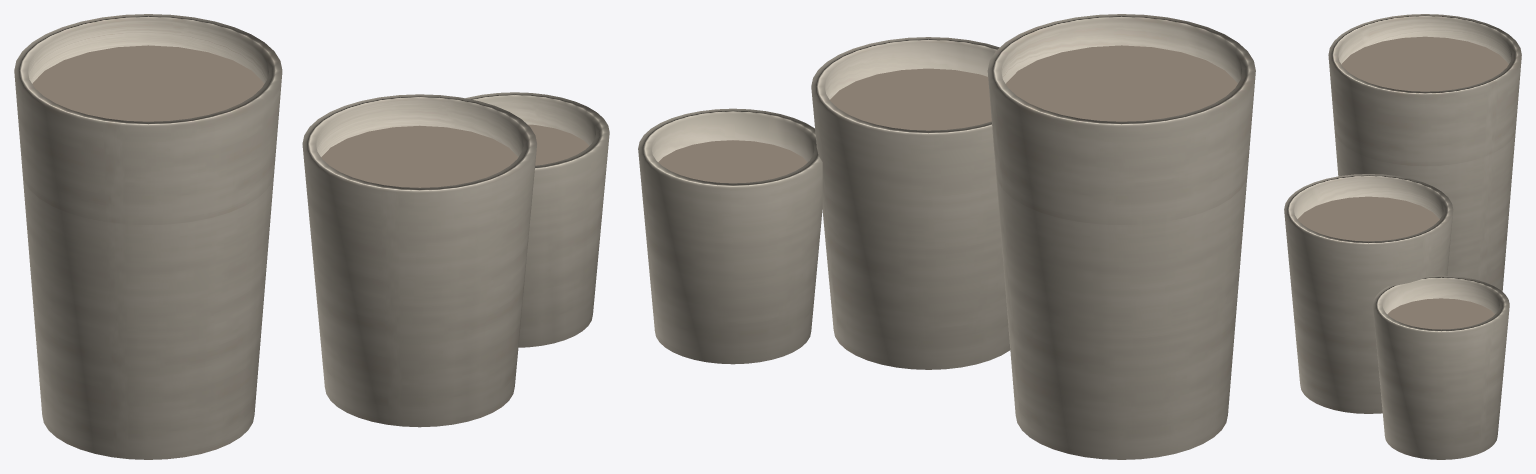
Rendered from kowhai-hero-out-02.glb.
3 views of the same model, side by side, from view 1: azimuth 30°, elevation 25°; view 2: azimuth 150°, elevation 25°; view 3: azimuth 270°, elevation 25° (orthographic). The views are drawn at different scales.
Parts seen in each view (by area): view 1: Outdoor_PlanterVessel_1, Outdoor_PlanterVessel_2, SubPart (×3), Outdoor_PlanterVessel_3; view 2: Outdoor_PlanterVessel_1, Outdoor_PlanterVessel_2, Outdoor_PlanterVessel_3, SubPart (×3); view 3: Outdoor_PlanterVessel_1, Outdoor_PlanterVessel_2, Outdoor_PlanterVessel_3, SubPart (×3).
Part boxes in pixels (x1=…): Outdoor_PlanterVessel_1: x1=14, y1=14, x2=282, y2=459; Outdoor_PlanterVessel_2: x1=302, y1=94, x2=536, y2=427; SubPart (×3): x1=32, y1=45, x2=588, y2=187; Outdoor_PlanterVessel_3: x1=466, y1=92, x2=609, y2=347; Outdoor_PlanterVessel_1: x1=987, y1=14, x2=1255, y2=459; Outdoor_PlanterVessel_2: x1=811, y1=37, x2=1010, y2=369; Outdoor_PlanterVessel_3: x1=638, y1=108, x2=822, y2=364; SubPart (×3): x1=658, y1=45, x2=1237, y2=183; Outdoor_PlanterVessel_1: x1=1328, y1=14, x2=1521, y2=291; Outdoor_PlanterVessel_2: x1=1284, y1=174, x2=1453, y2=413; Outdoor_PlanterVessel_3: x1=1372, y1=275, x2=1509, y2=459; SubPart (×3): x1=1297, y1=36, x2=1508, y2=329.
Size of the model in its own units: 1.19 by 0.68 by 0.59.
Materials: 2 (1 with a texture image).
